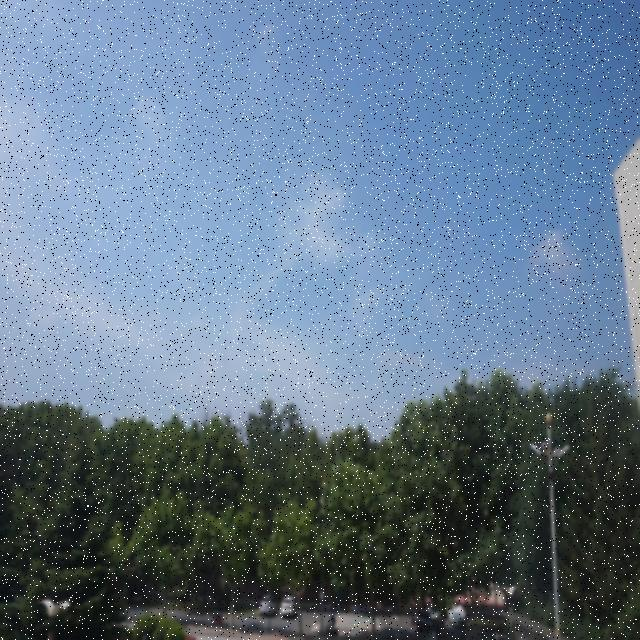UAV: (352, 436, 359, 442)
